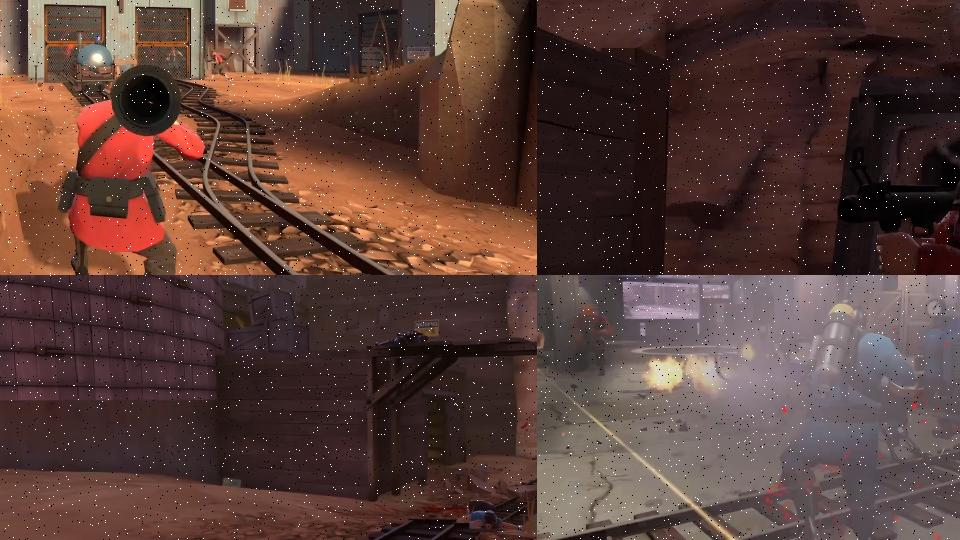Enemy: (774, 286, 921, 540), (57, 63, 206, 275), (834, 155, 960, 275), (569, 304, 613, 377), (455, 499, 524, 532), (375, 329, 429, 347), (537, 325, 551, 378), (207, 49, 230, 81)
